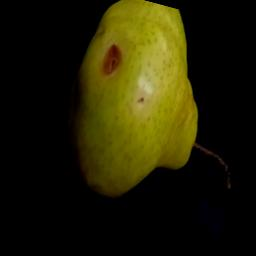Pear Unripe: (29, 0, 256, 243)
